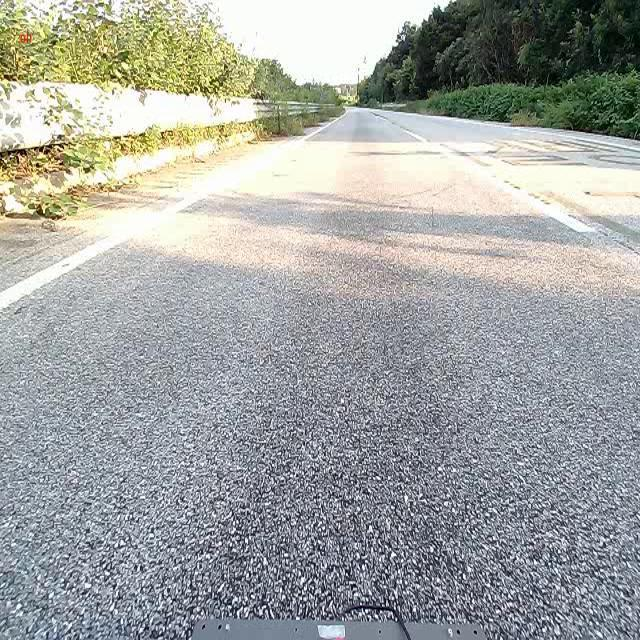Lane: (0, 200, 180, 313), (0, 199, 180, 310)
